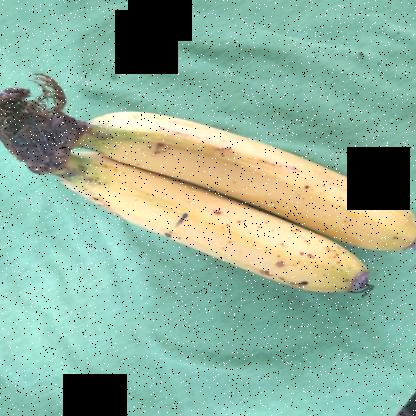ripe: (86, 104, 416, 254), (69, 156, 376, 302)
